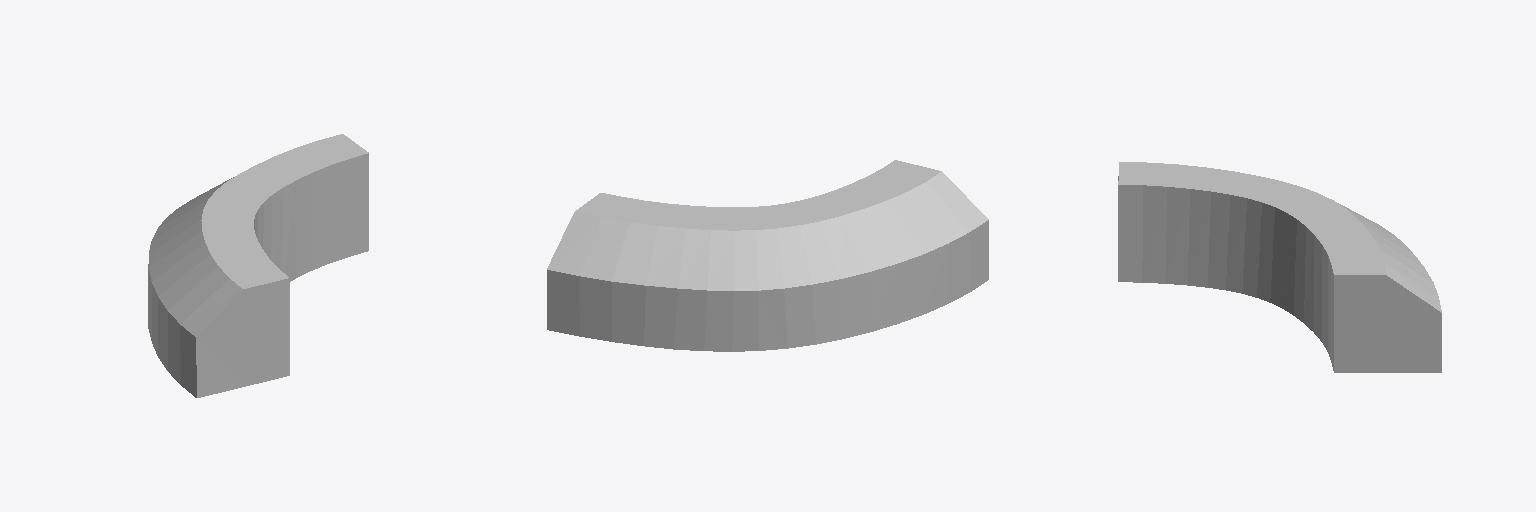
The model's file is Inside Bend_LP.obj.
The picture shows the model from 3 angles: view 1: azimuth 30°, elevation 25°; view 2: azimuth 150°, elevation 25°; view 3: azimuth 270°, elevation 25°; orthographic projection.
Visible parts, largest first — view 1: Inside_Bend; view 2: Inside_Bend; view 3: Inside_Bend.
Part boxes in pixels (left/top/right/bottom): Inside_Bend: left=148, top=134, right=368, bottom=397; Inside_Bend: left=547, top=160, right=988, bottom=351; Inside_Bend: left=1118, top=162, right=1441, bottom=372.
Size of the model in its own units: 3 by 1 by 3.